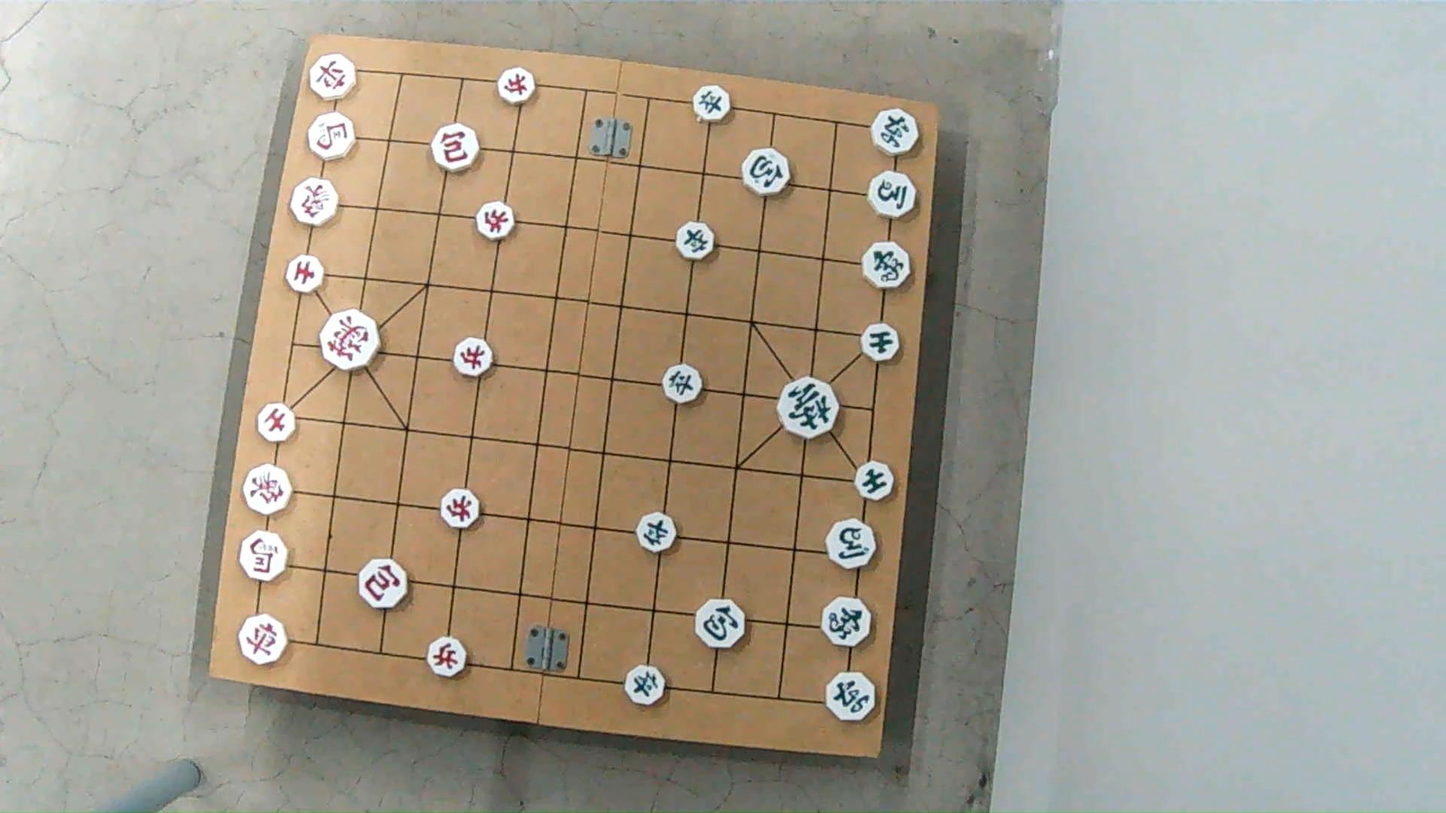cha_green: (824, 671, 874, 720), (870, 112, 923, 156)
cha_red: (239, 615, 288, 667), (305, 56, 357, 98)
jol_green: (624, 667, 668, 705), (635, 516, 679, 553), (675, 225, 718, 260), (662, 367, 704, 400), (694, 87, 734, 121)
jol_red: (475, 199, 517, 240), (429, 637, 471, 675), (442, 491, 484, 527), (453, 341, 496, 376), (493, 72, 536, 104)
ma_green: (825, 519, 878, 565), (868, 173, 921, 217)
ma_red: (237, 533, 288, 580), (307, 116, 358, 160)
po_green: (695, 598, 749, 648), (740, 149, 792, 196)
po_red: (360, 562, 413, 608), (429, 126, 481, 170)
sa_green: (856, 458, 894, 502), (862, 323, 903, 362)
sa_red: (257, 406, 300, 443), (285, 256, 325, 293)
sang_green: (821, 597, 877, 648), (862, 240, 914, 291)
sang_red: (239, 464, 290, 511), (289, 183, 340, 226)
wang_green: (776, 376, 841, 440)
wang_red: (321, 313, 381, 369)
